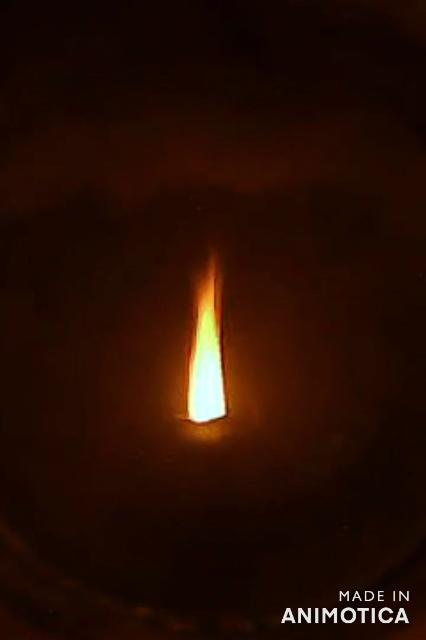burner flame: (186, 242, 226, 424)
